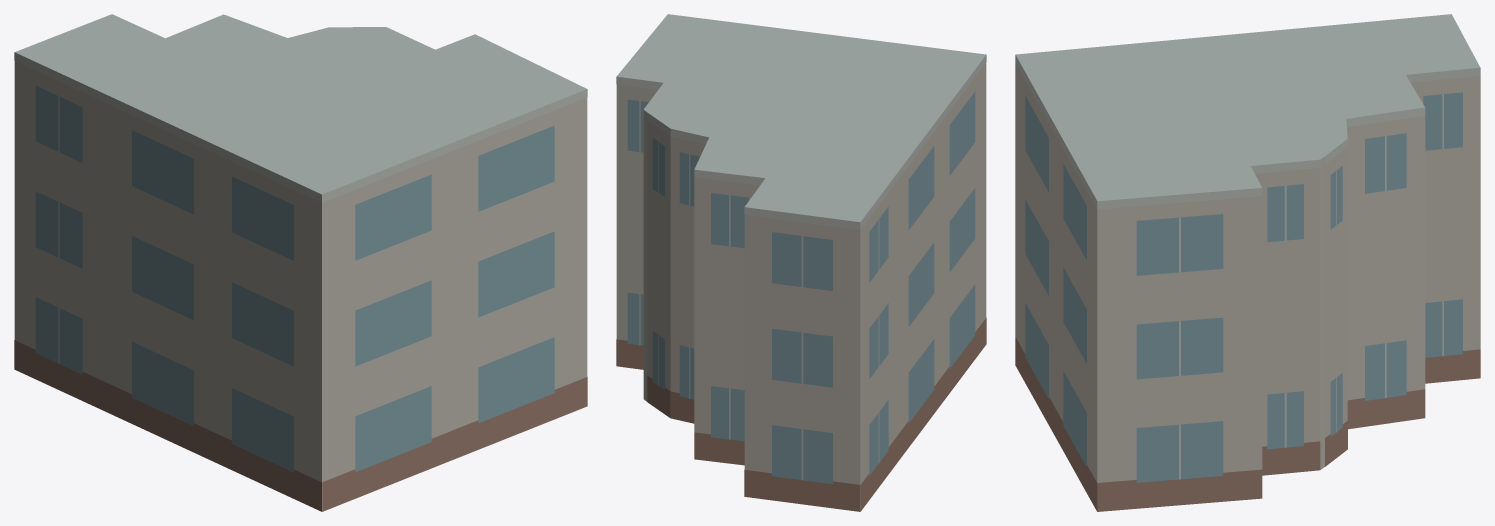
The model's file is survey-upis-32646200.glb.
3 renders of one model, left to right at view 1: azimuth 30°, elevation 25°; view 2: azimuth 150°, elevation 25°; view 3: azimuth 270°, elevation 25°, orthographic. The views are drawn at different scales.
Visible parts, largest first — view 1: survey-upis-32646200.tmp; view 2: survey-upis-32646200.tmp; view 3: survey-upis-32646200.tmp.
Part boxes in pixels (<box>): survey-upis-32646200.tmp: <box>14,14,587,511</box>; survey-upis-32646200.tmp: <box>616,14,986,511</box>; survey-upis-32646200.tmp: <box>1015,14,1480,511</box>.
Size of the model in its own units: 11.84 by 9.15 by 12.43.
